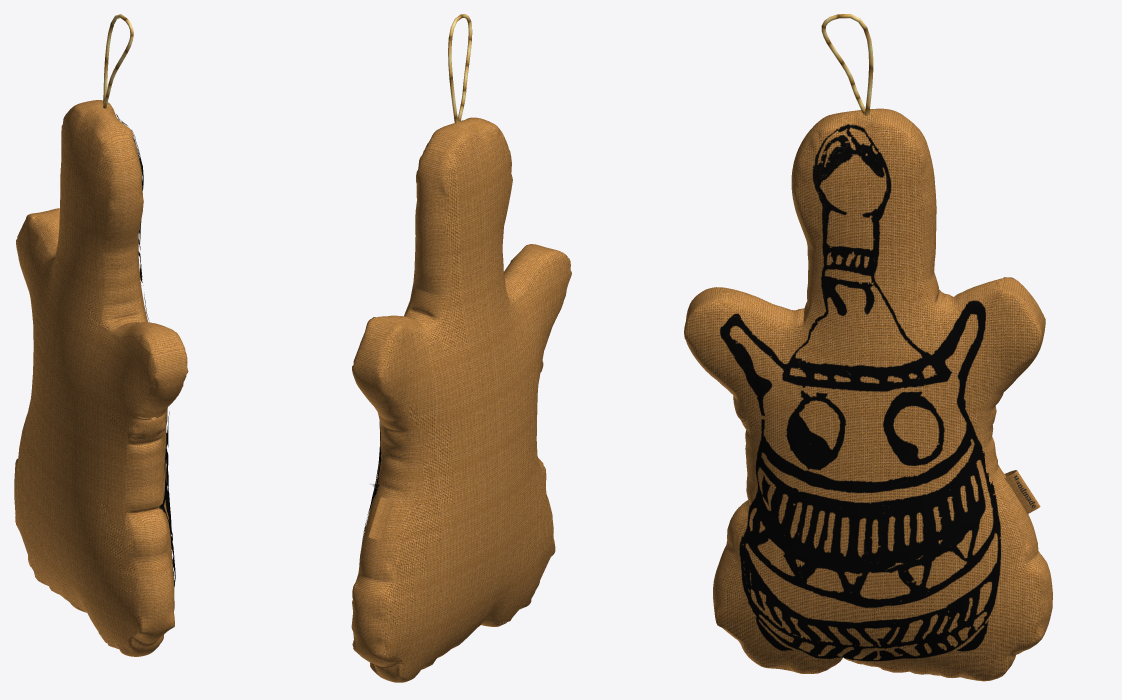
File: 2_orange.glb
3 renders of one model, left to right at view 1: azimuth 30°, elevation 25°; view 2: azimuth 150°, elevation 25°; view 3: azimuth 270°, elevation 25°, orthographic. The views are drawn at different scales.
Visible parts, largest first — view 1: Plane.007, xcxc.001, BezierCircle.001; view 2: Plane.007, BezierCircle.001, BezierCurve.001; view 3: Plane.007, xcxc.001, BezierCircle.001.
Boxes of the visible parts, x1,y1,x2,y2 form: Plane.007: (14, 100, 188, 656); xcxc.001: (116, 114, 175, 586); BezierCircle.001: (103, 14, 133, 108); Plane.007: (351, 117, 571, 682); BezierCircle.001: (448, 14, 472, 123); BezierCurve.001: (368, 497, 393, 541); Plane.007: (684, 108, 1052, 681); xcxc.001: (720, 124, 1001, 661); BezierCircle.001: (821, 14, 873, 115).
Bounding box in the file's own units: 1.11 × 5.8 × 4.
Materials: 5 (3 with a texture image).
